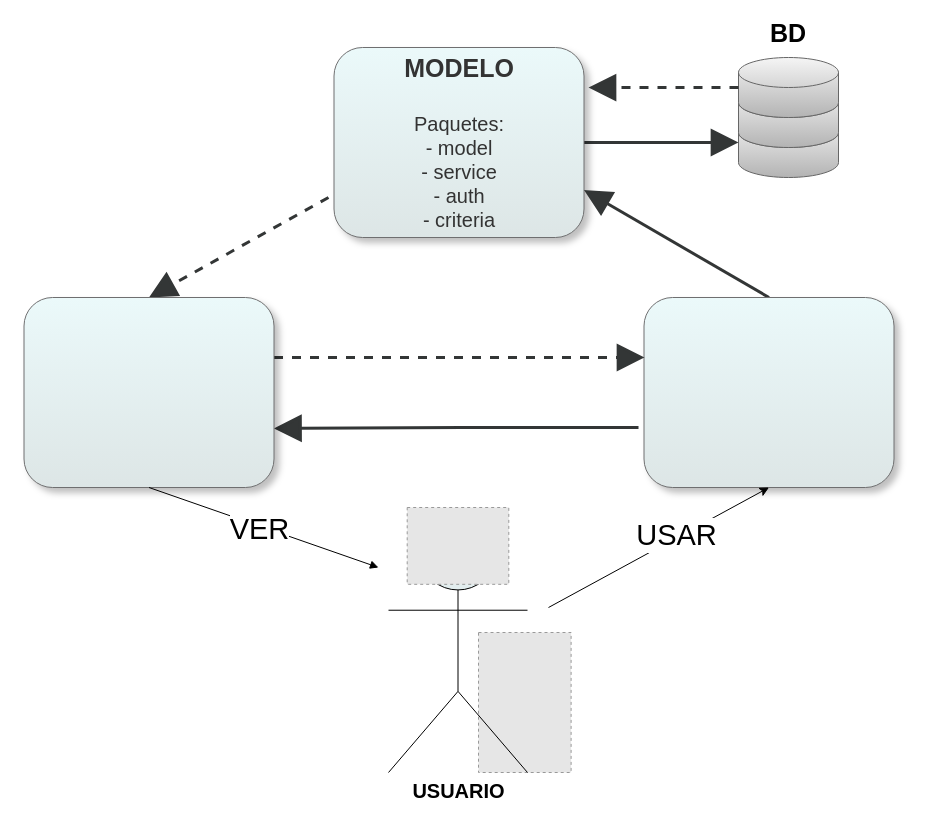
Some shapes in this 935 by 820 pixel diagram are drawn without their labels. Grey dashed boxes stand in for pictures. Each missing label, with the centre of its shape:
CONTROLADOR Paquetes: - controller: pixel 771 394
VISTA - View.java - archivos fxml - styles.css: pixel 151 394
